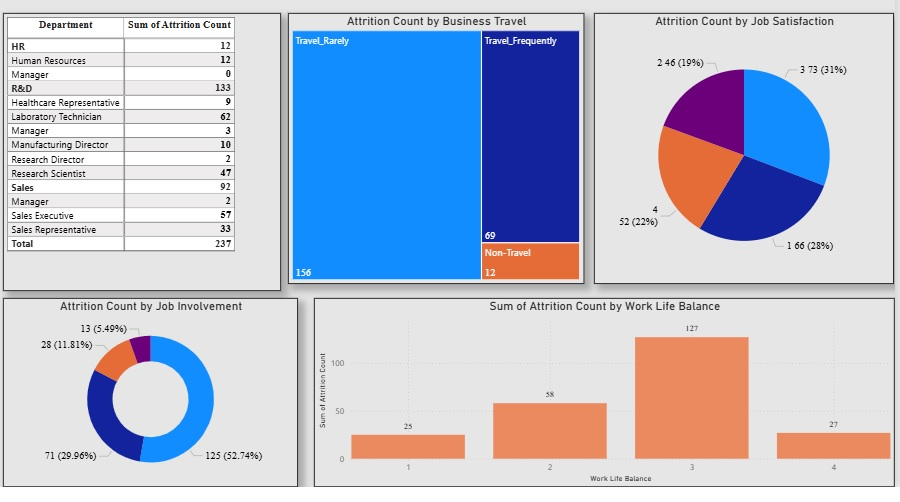

The page's visual inventory and layout, read from the dashboard file:
{"tool":"powerbi","page":{"name":"Page 2","canvas":[1280,720],"ordinal":1},"visuals":[{"type":"pivotTable","fields":{"Rows":["HR data.Department","HR data.Job Role"],"Values":["Sum(HR data.Attrition Count)"]},"box":[17.1,47.7,393.8,393.8],"z":0},{"type":"treemap","title":"Attrition Count by Business Travel","fields":{"Group":["HR data.Business Travel"],"Values":["Sum(HR data.Attrition Count)"]},"box":[420.9,48.2,419.5,384.1],"z":1000},{"type":"donutChart","title":"Attrition Count by Job Involvement","fields":{"Category":["HR data.Job Involvement"],"Y":["Sum(HR data.Attrition Count)"]},"box":[17.1,452.4,418.2,267.8],"z":2000},{"type":"pieChart","title":"Attrition Count by Job Satisfaction","fields":{"Category":["HR data.Job Satisfaction"],"Y":["Sum(HR data.Attrition Count)"]},"box":[854.6,48.2,425.2,384.1],"z":3000},{"type":"columnChart","fields":{"Category":["HR data.Work Life Balance"],"Y":["Sum(HR data.Attrition Count)"]},"box":[457.3,452.4,823,267.8],"z":4000}]}

Visuals, with their boxes in screenshot pixels (x1, y1, x2, y2), scaled from the page's 1280x720 canvas onto the 900x502 screenshot:
pivotTable - HR data.Department x HR data.Job Role: <region>12, 33, 289, 308</region>
"Attrition Count by Business Travel" treemap: <region>296, 34, 591, 301</region>
"Attrition Count by Job Involvement" donutChart: <region>12, 315, 306, 501</region>
"Attrition Count by Job Satisfaction" pieChart: <region>601, 34, 899, 301</region>
columnChart - HR data.Work Life Balance x Sum(HR data.Attrition Count): <region>322, 315, 899, 501</region>
